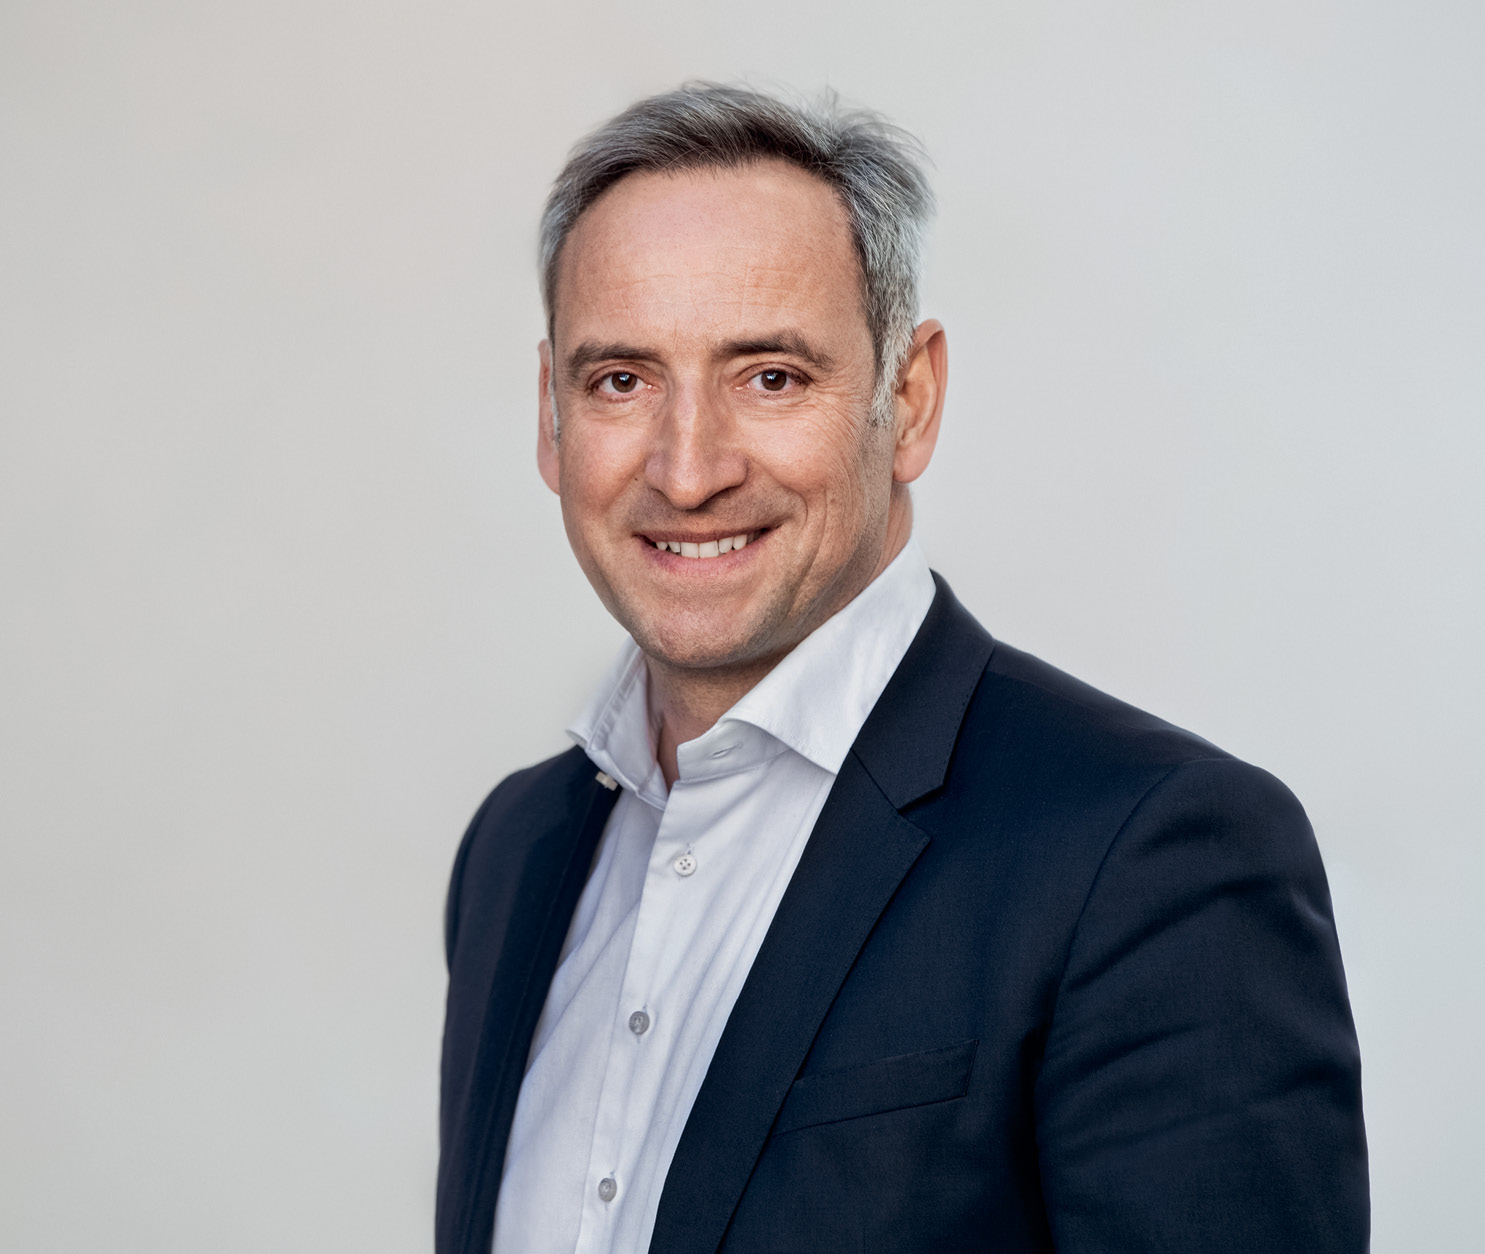Without Helmet: (524, 61, 959, 697)
